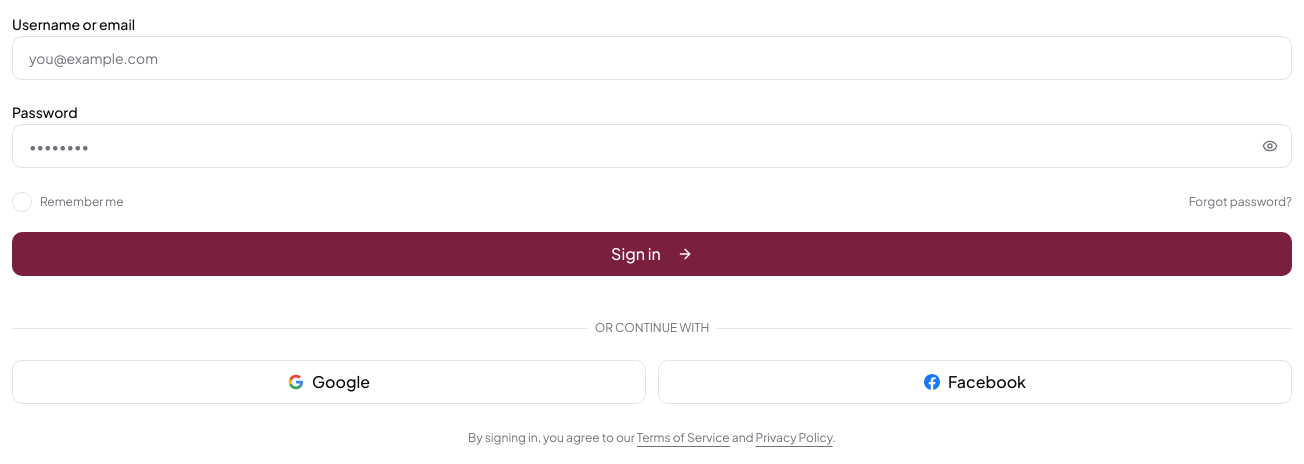
Scenario: LoginForm (F8.2) › supports checking 'Remember me'
The image size is (1304, 464).
Click the checkbox named "remember me" at (22, 202), box [12,192,32,212]
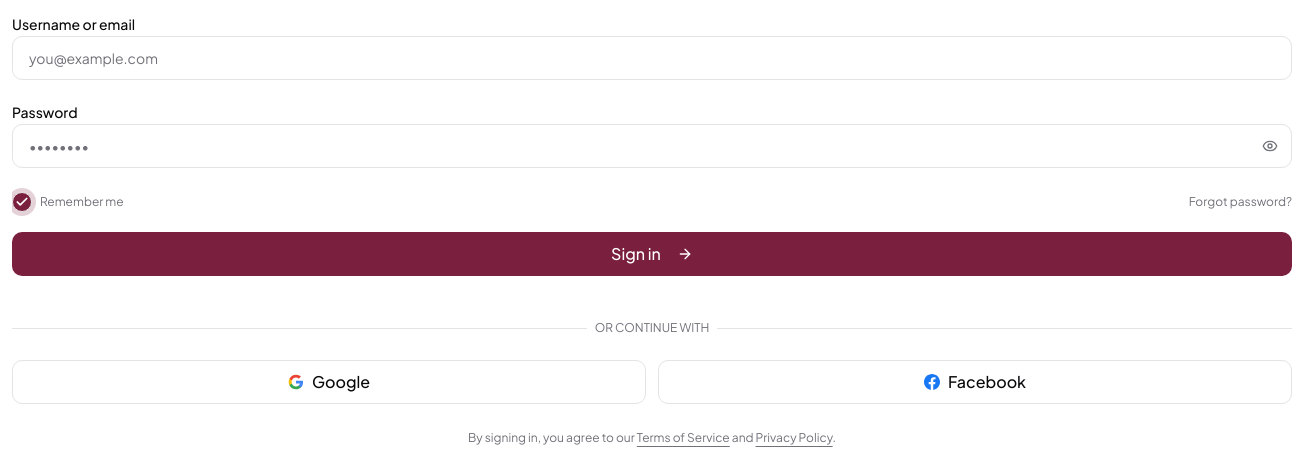
Check: the checkbox named "remember me" is checked, box [12,192,32,212]
